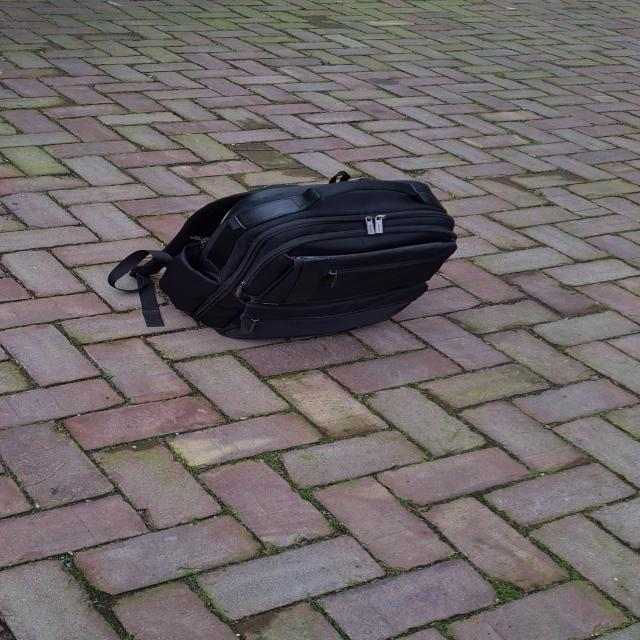backpack: (140, 167, 467, 345)
